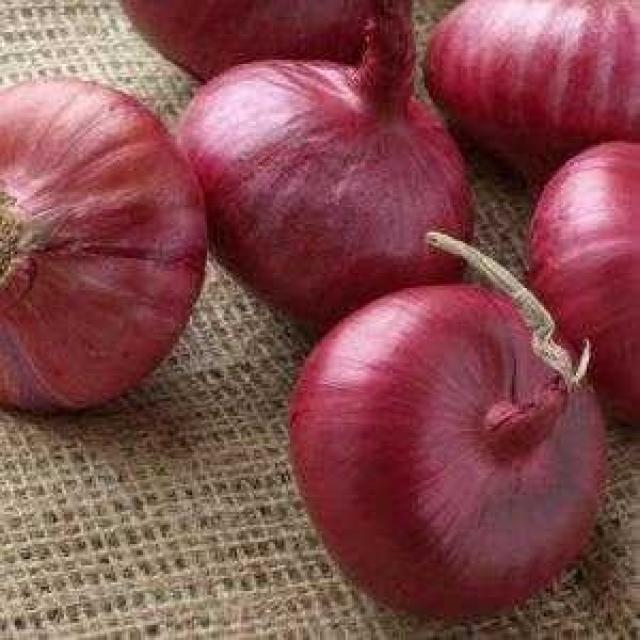Onion: (277, 241, 620, 640), (163, 3, 489, 337), (0, 56, 235, 478)
